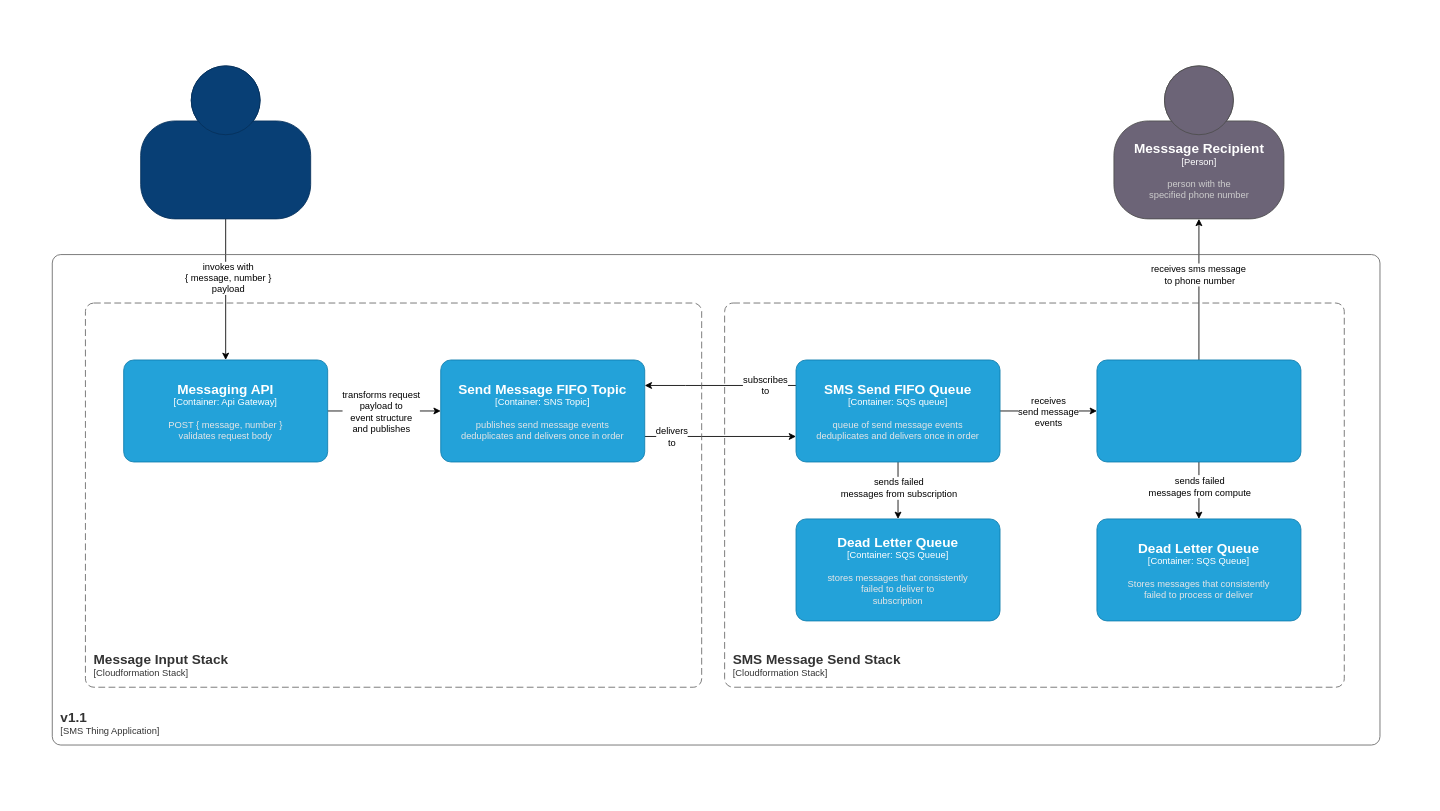
Image size: 1440x811. Some labels were removed from this diagram. The centre of each missing label's shape, as x and y in pixels:
Message Sender [Person] user who wants to send an sms to a number: point (225, 142)
SMS Send Lambda [Container: Lambda] sends sms message to number via sns sdk: point (1198, 410)
